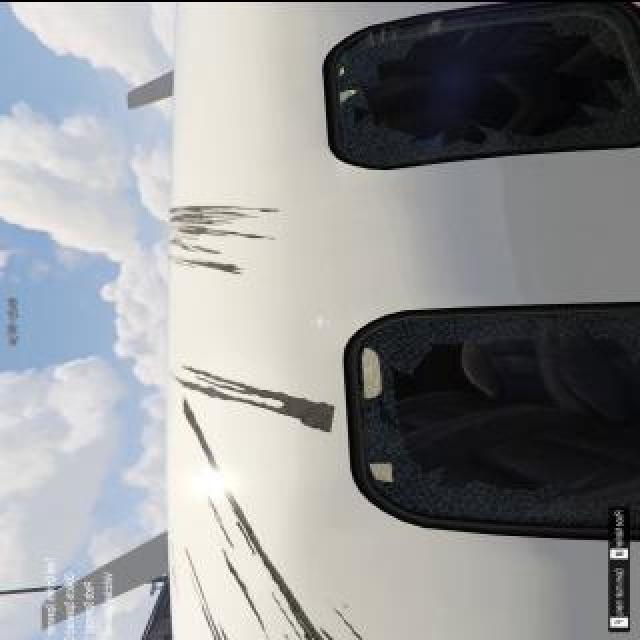dent: (230, 498, 322, 638), (184, 368, 340, 434), (222, 554, 263, 620), (185, 402, 217, 474), (169, 204, 248, 224), (174, 224, 269, 239), (169, 256, 239, 274)
